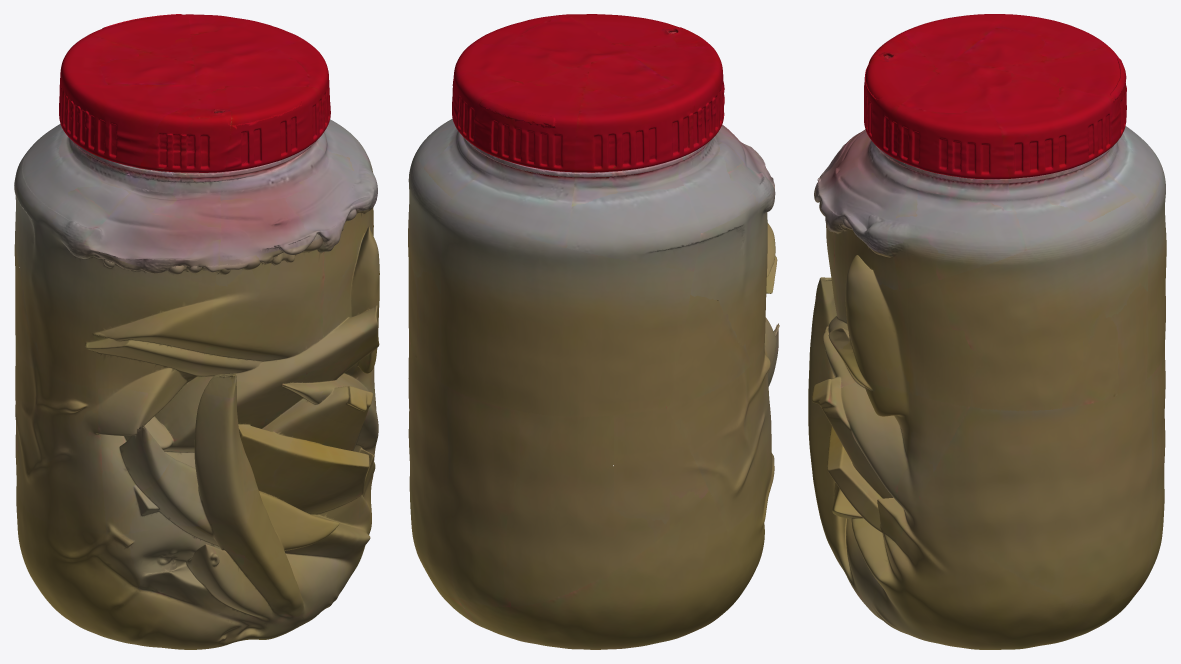
File: jar-optimized.glb
3 views of the same model, side by side, from view 1: azimuth 30°, elevation 25°; view 2: azimuth 150°, elevation 25°; view 3: azimuth 270°, elevation 25° (orthographic).
Parts seen in each view (by area): view 1: tripo_node_b76827dc-800a-479e-a332-cddcf76eee19; view 2: tripo_node_b76827dc-800a-479e-a332-cddcf76eee19; view 3: tripo_node_b76827dc-800a-479e-a332-cddcf76eee19.
Part boxes in pixels (bbox=[...]): tripo_node_b76827dc-800a-479e-a332-cddcf76eee19: bbox=[14, 14, 379, 649]; tripo_node_b76827dc-800a-479e-a332-cddcf76eee19: bbox=[408, 14, 779, 649]; tripo_node_b76827dc-800a-479e-a332-cddcf76eee19: bbox=[808, 14, 1166, 649].
Size of the model in its own units: 0.6026 by 0.9786 by 0.5968.
1 material, 1 textured.
